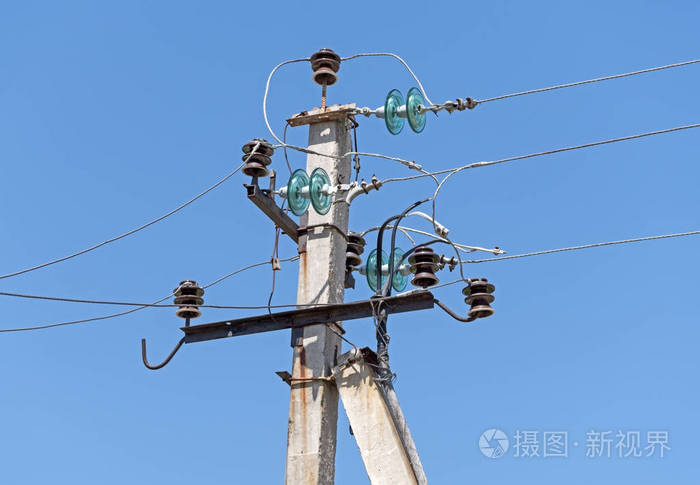insulator: (384, 86, 428, 136), (287, 168, 333, 215), (365, 247, 410, 294), (460, 277, 501, 320), (236, 139, 273, 180), (308, 50, 344, 87), (408, 244, 440, 285), (170, 283, 205, 319), (344, 228, 364, 265)
